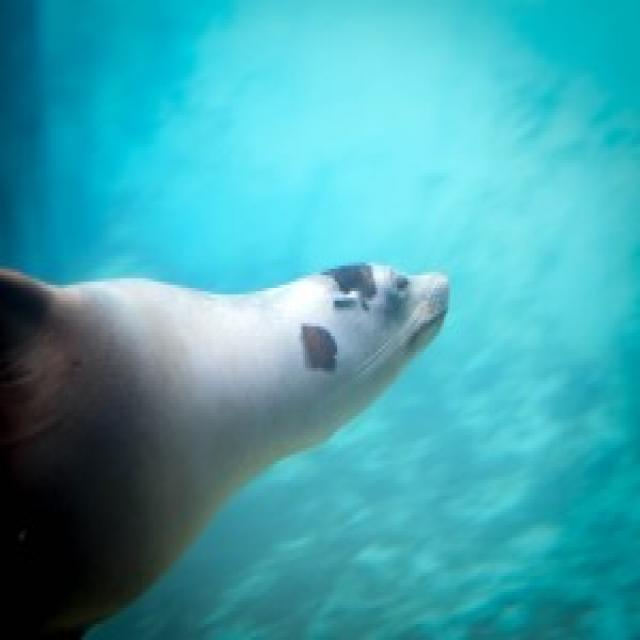Seal: (0, 242, 461, 640)
